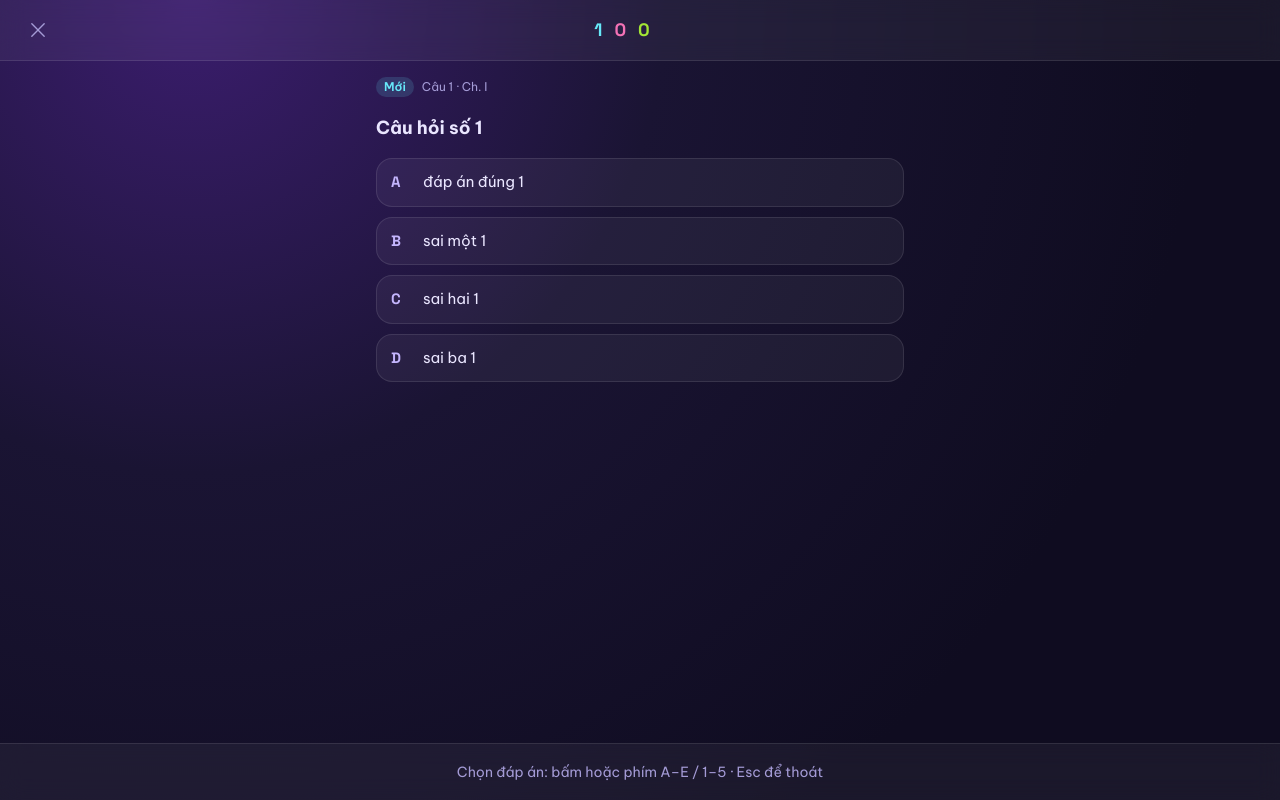
hết thẻ thì hiện tổng kết phiên
Step 1. Click the button "A đáp án đúng 1" → (474, 182), box [376,158,904,207]
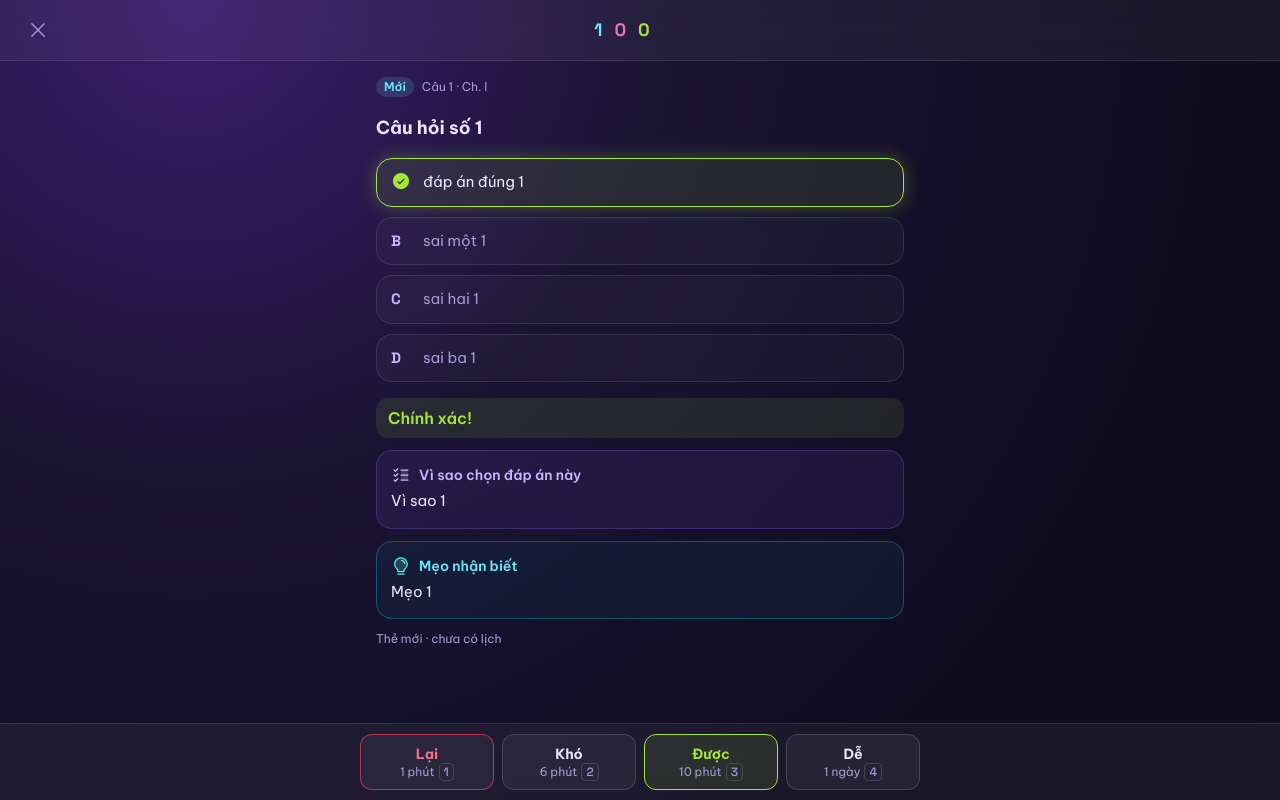
Step 2. Click the button "Dễ 1 ngày4" → (853, 762), box [786,734,920,790]
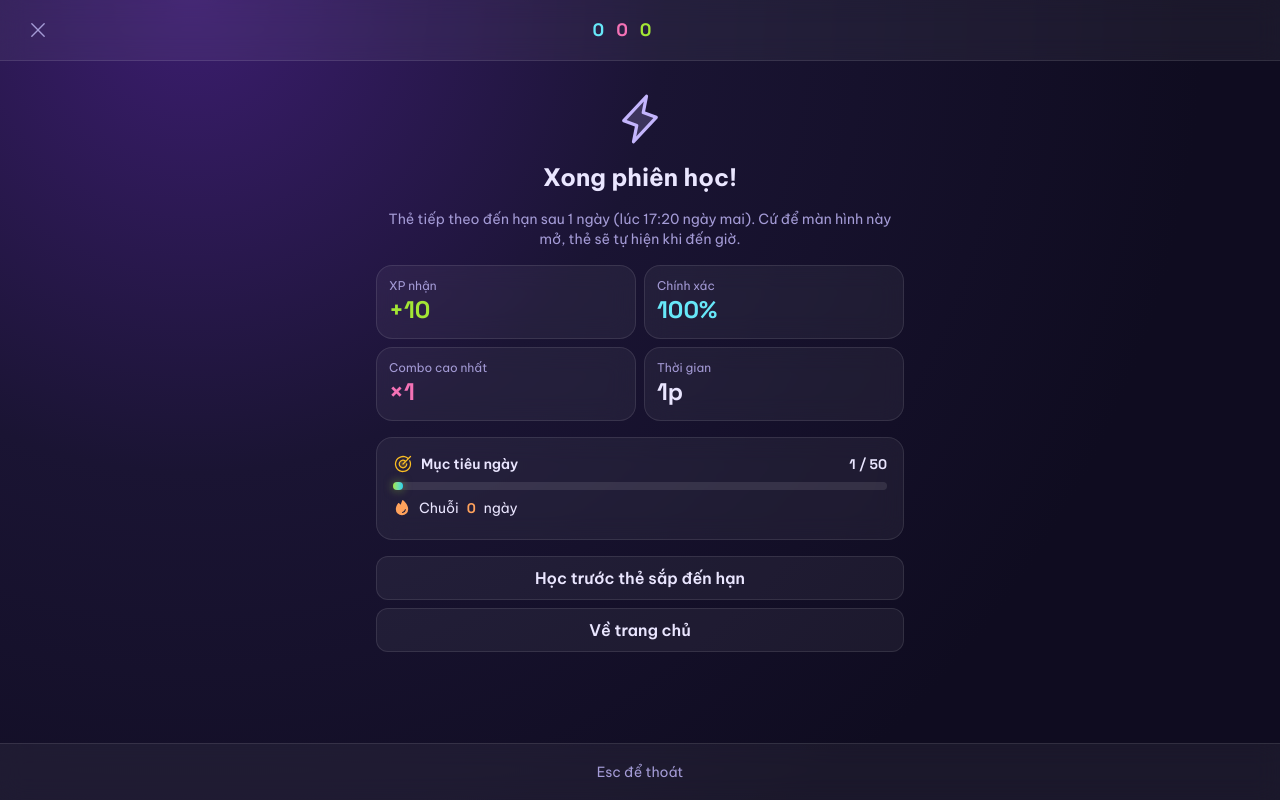
Now the heading "Xong phiên học!" is shown, box [543,162,737,192]
Now the text "+10" is shown, box [389,294,430,325]
Now the text "100%" is shown, box [657,294,717,325]
